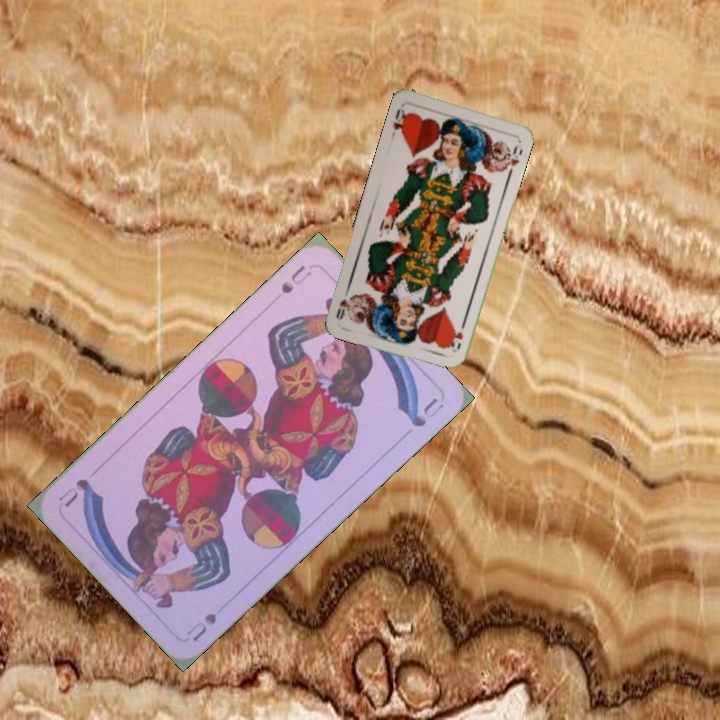HO: (387, 102, 411, 141), (445, 318, 468, 355)
SU: (277, 261, 315, 297), (182, 609, 219, 644)
